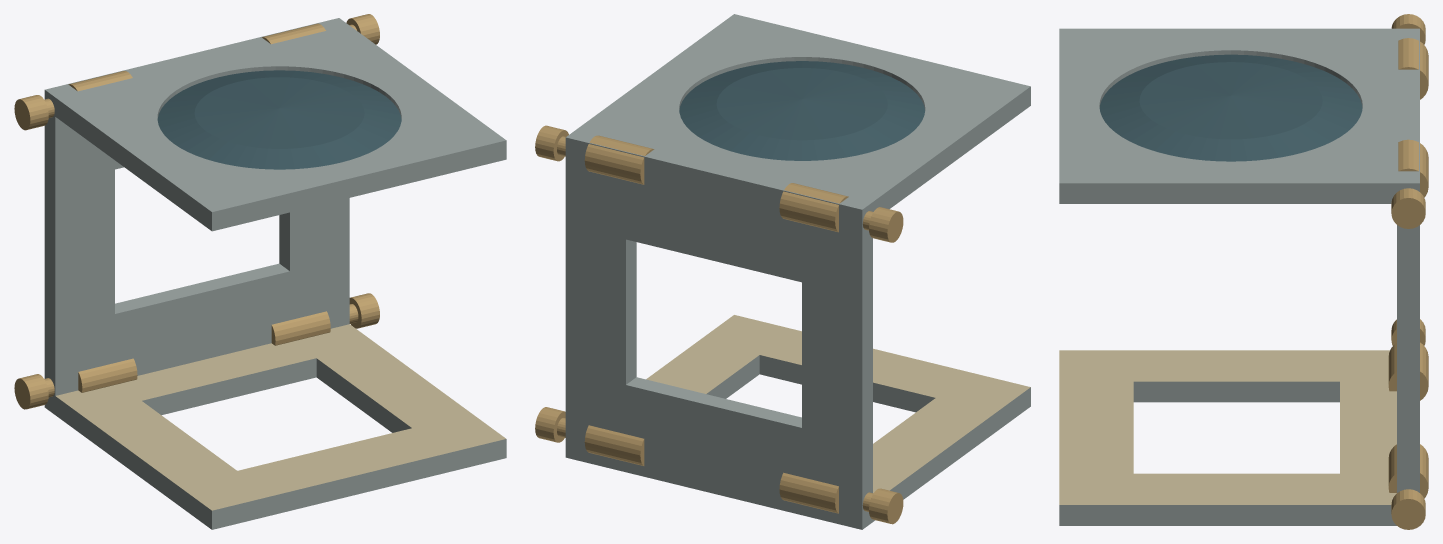
The picture shows the model from 3 angles, left to right: view 1: azimuth 30°, elevation 25°; view 2: azimuth 150°, elevation 25°; view 3: azimuth 270°, elevation 25°; orthographic projection. The views are drawn at different scales.
Visible parts, largest first — view 1: WholeLowerPlateWithSquareCountingOpening, WholeRearPlateWithOpenRectangle, WholeUpperPlateWithCircularOpticSeat, WholeOpaqueBiconvexOpticAppearance, WholeLowerAcrossFrameHeadedPin, WholeUpperAcrossFrameHeadedPin, WholeLowerRightHingeBarrel, WholeLowerLeftHingeBarrel, WholeUpperLeftHingeBarrel, WholeUpperRightHingeBarrel; view 2: WholeRearPlateWithOpenRectangle, WholeUpperPlateWithCircularOpticSeat, WholeLowerPlateWithSquareCountingOpening, WholeOpaqueBiconvexOpticAppearance, WholeUpperRightHingeBarrel, WholeUpperLeftHingeBarrel, WholeUpperAcrossFrameHeadedPin, WholeLowerAcrossFrameHeadedPin, WholeLowerRightHingeBarrel, WholeLowerLeftHingeBarrel; view 3: WholeLowerPlateWithSquareCountingOpening, WholeUpperPlateWithCircularOpticSeat, WholeOpaqueBiconvexOpticAppearance, WholeRearPlateWithOpenRectangle, WholeUpperAcrossFrameHeadedPin, WholeLowerAcrossFrameHeadedPin, WholeUpperLeftHingeBarrel, WholeUpperRightHingeBarrel, WholeLowerLeftHingeBarrel, WholeLowerRightHingeBarrel.
Part boxes in pixels (bbox=[...]): WholeLowerPlateWithSquareCountingOpening: bbox=[44, 324, 506, 529]; WholeRearPlateWithOpenRectangle: bbox=[44, 95, 349, 400]; WholeUpperPlateWithCircularOpticSeat: bbox=[44, 18, 506, 231]; WholeOpaqueBiconvexOpticAppearance: bbox=[157, 70, 401, 169]; WholeLowerAcrossFrameHeadedPin: bbox=[14, 293, 379, 409]; WholeUpperAcrossFrameHeadedPin: bbox=[14, 14, 379, 130]; WholeLowerRightHingeBarrel: bbox=[271, 311, 330, 345]; WholeLowerLeftHingeBarrel: bbox=[78, 358, 137, 392]; WholeUpperLeftHingeBarrel: bbox=[68, 71, 132, 91]; WholeUpperRightHingeBarrel: bbox=[262, 23, 325, 44]; WholeRearPlateWithOpenRectangle: bbox=[565, 142, 872, 513]; WholeUpperPlateWithCircularOpticSeat: bbox=[565, 14, 1030, 228]; WholeLowerPlateWithSquareCountingOpening: bbox=[565, 315, 1030, 529]; WholeOpaqueBiconvexOpticAppearance: bbox=[679, 61, 924, 160]; WholeUpperRightHingeBarrel: bbox=[584, 135, 654, 184]; WholeUpperLeftHingeBarrel: bbox=[779, 183, 848, 232]; WholeUpperAcrossFrameHeadedPin: bbox=[535, 125, 903, 242]; WholeLowerAcrossFrameHeadedPin: bbox=[535, 407, 903, 524]; WholeLowerRightHingeBarrel: bbox=[584, 425, 644, 465]; WholeLowerLeftHingeBarrel: bbox=[779, 472, 838, 513]; WholeLowerPlateWithSquareCountingOpening: bbox=[1059, 350, 1396, 525]; WholeUpperPlateWithCircularOpticSeat: bbox=[1059, 28, 1419, 203]; WholeOpaqueBiconvexOpticAppearance: bbox=[1099, 54, 1362, 161]; WholeRearPlateWithOpenRectangle: bbox=[1397, 188, 1419, 492]; WholeUpperAcrossFrameHeadedPin: bbox=[1391, 14, 1425, 228]; WholeLowerAcrossFrameHeadedPin: bbox=[1391, 319, 1425, 529]; WholeUpperLeftHingeBarrel: bbox=[1398, 38, 1428, 99]; WholeUpperRightHingeBarrel: bbox=[1398, 139, 1428, 197]; WholeLowerLeftHingeBarrel: bbox=[1388, 342, 1428, 400]; WholeLowerRightHingeBarrel: bbox=[1388, 444, 1428, 498].
Size of the model in its own units: 0.076 by 0.068 by 0.0645.
